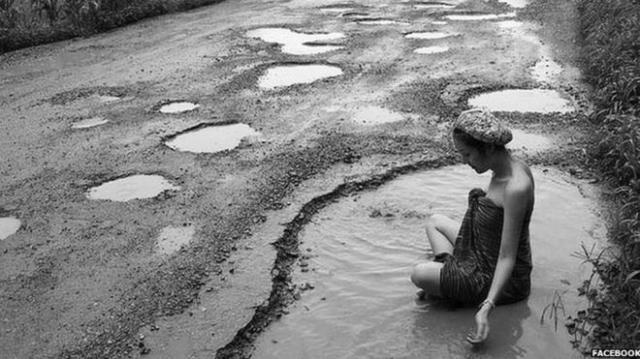Pothole: (268, 143, 606, 359), (451, 71, 592, 127), (151, 117, 283, 159), (244, 57, 352, 97), (86, 175, 180, 210), (56, 85, 130, 108), (147, 93, 206, 115), (0, 210, 40, 242), (438, 7, 498, 27), (66, 114, 116, 132), (410, 43, 458, 58)
